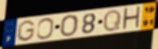8: (82, 13, 97, 35)
G: (15, 20, 36, 43)
H: (122, 5, 142, 32)
O: (59, 14, 79, 38), (36, 16, 55, 40)
Q: (102, 9, 122, 33)
